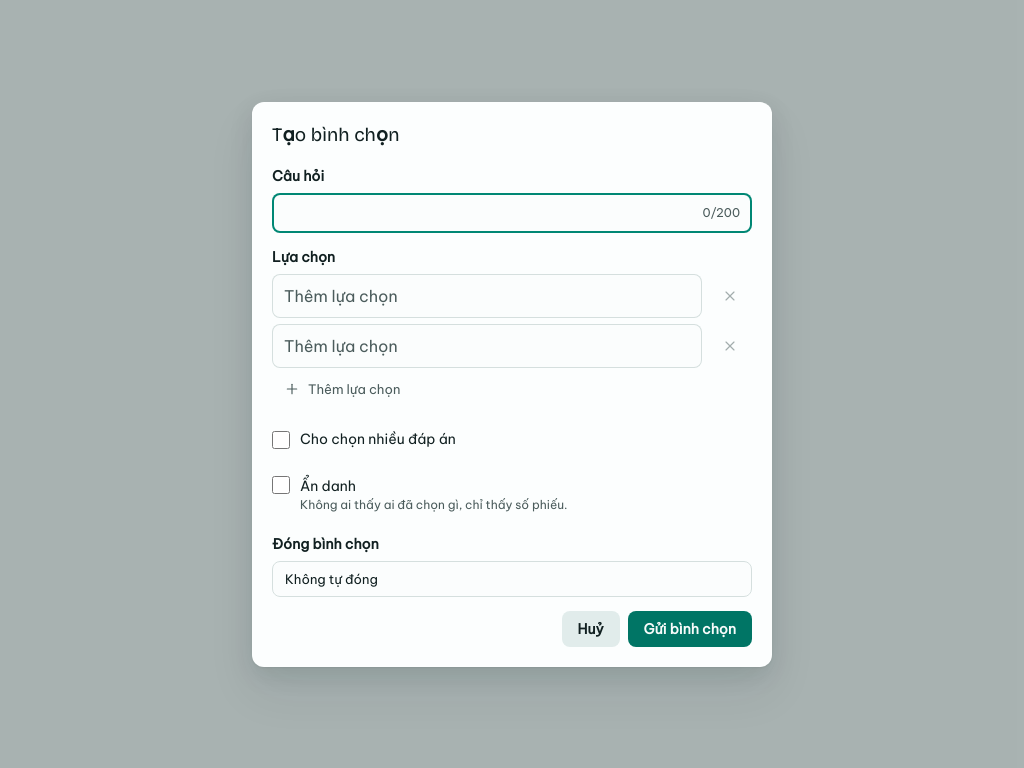
PollDialog › removes a choice row
This screenshot has width=1024, height=768.
Click the button "Thêm lựa chọn": x=342, y=388 left=272, top=374, right=412, bottom=404
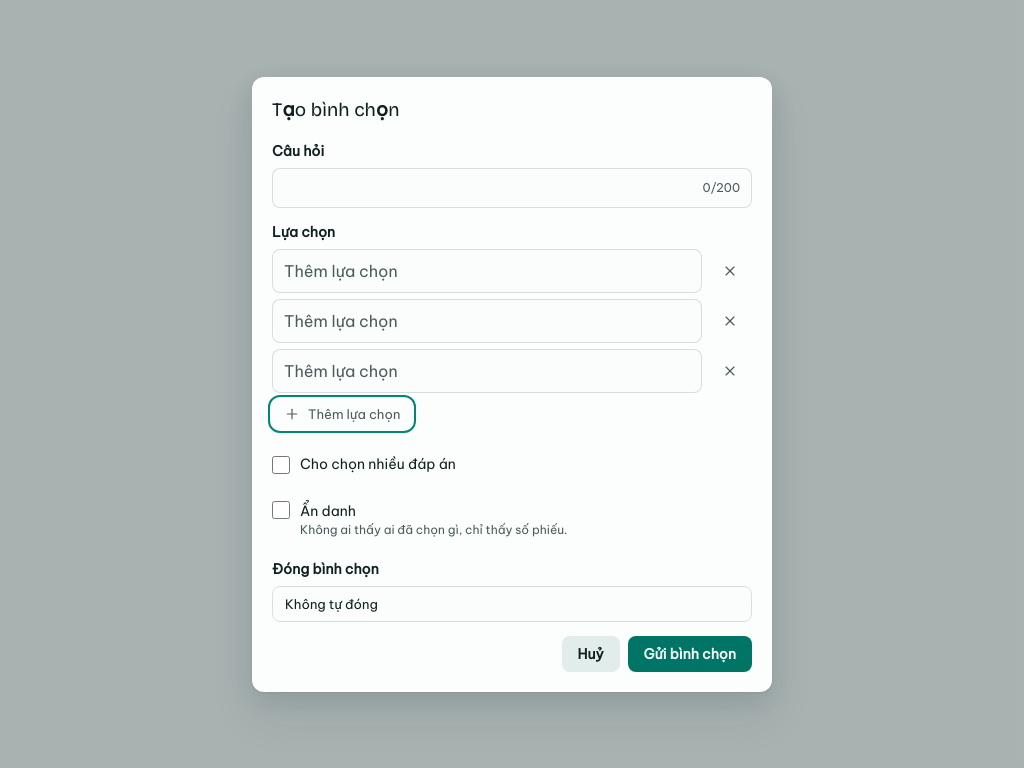
Click the button named "Bỏ lựa chọn 3": x=730, y=370 left=708, top=348, right=752, bottom=392
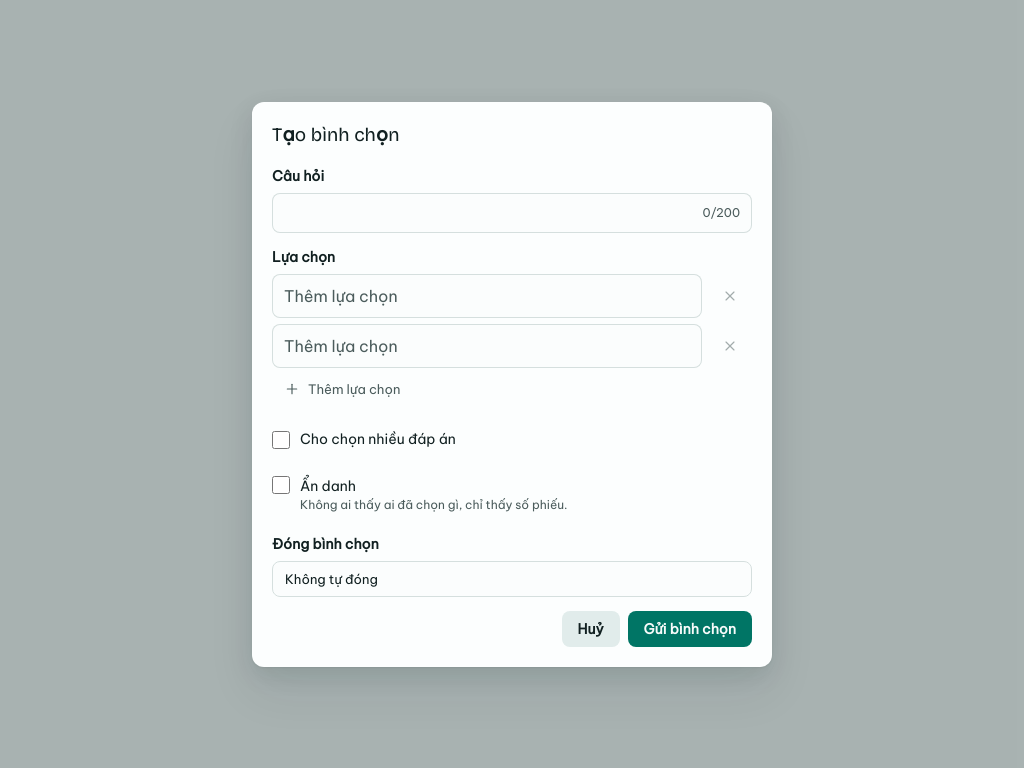
Expected: the number of fields labelled "Thêm lựa chọn" is 2, left=272, top=274, right=702, bottom=318; left=272, top=324, right=702, bottom=368
